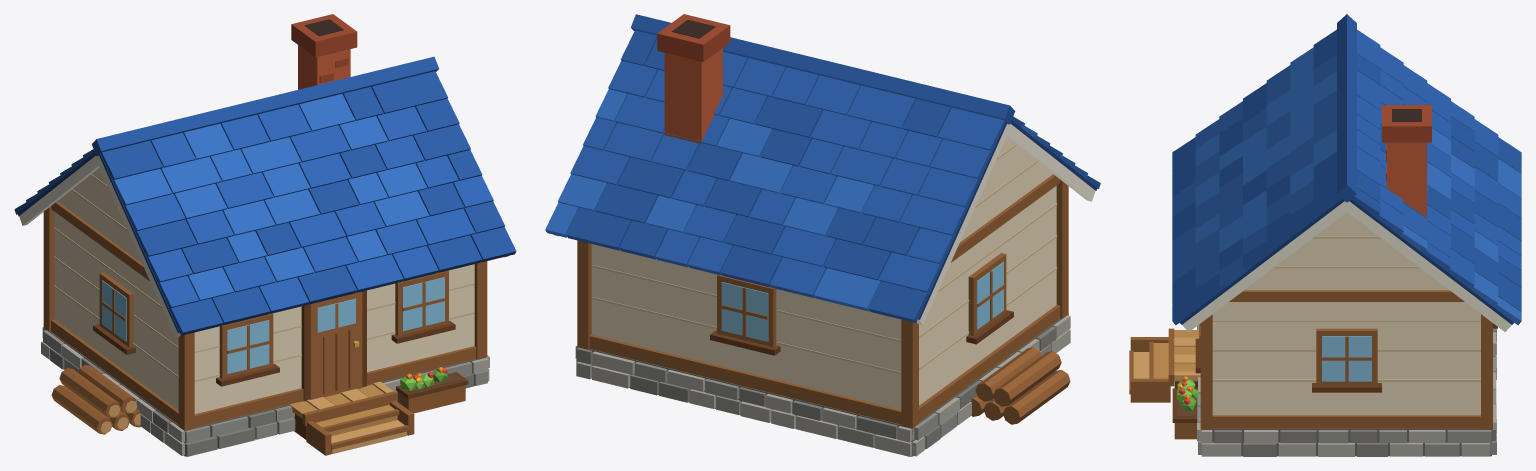
Rendered from house-1.glb.
The picture shows the model from 3 angles, left to right: view 1: azimuth 30°, elevation 25°; view 2: azimuth 150°, elevation 25°; view 3: azimuth 270°, elevation 25°; orthographic projection. The views are drawn at different scales.
Parts seen in each view (by area): view 1: H1_Roof, H1_Walls, H1_Openings, H1_Timber, H1_Props, H1_Foundation, H1_Porch; view 2: H1_Roof, H1_Walls, H1_Timber, H1_Foundation, H1_Props, H1_Openings; view 3: H1_Roof, H1_Walls, H1_Foundation, H1_Timber, H1_Props, H1_Openings, H1_Porch.
Part boxes in pixels (x1=…): H1_Roof: x1=14, y1=56, x2=516, y2=337; H1_Walls: x1=54, y1=168, x2=474, y2=413; H1_Openings: x1=93, y1=270, x2=455, y2=401; H1_Timber: x1=43, y1=201, x2=487, y2=430; H1_Props: x1=51, y1=14, x2=468, y2=434; H1_Foundation: x1=41, y1=327, x2=489, y2=456; H1_Porch: x1=290, y1=381, x2=414, y2=455; H1_Roof: x1=545, y1=14, x2=1100, y2=325; H1_Walls: x1=591, y1=137, x2=1057, y2=409; H1_Timber: x1=577, y1=174, x2=1068, y2=428; H1_Foundation: x1=575, y1=314, x2=1070, y2=456; H1_Props: x1=657, y1=14, x2=1070, y2=424; H1_Openings: x1=710, y1=253, x2=1013, y2=355; H1_Roof: x1=1172, y1=14, x2=1521, y2=331; H1_Walls: x1=1212, y1=212, x2=1480, y2=415; H1_Foundation: x1=1197, y1=325, x2=1496, y2=456; H1_Timber: x1=1200, y1=290, x2=1492, y2=429; H1_Props: x1=1172, y1=105, x2=1431, y2=439; H1_Openings: x1=1195, y1=323, x2=1497, y2=392; H1_Porch: x1=1129, y1=328, x2=1200, y2=402.
Bounding box in the file's own units: 4.37 × 3.41 × 3.92.
